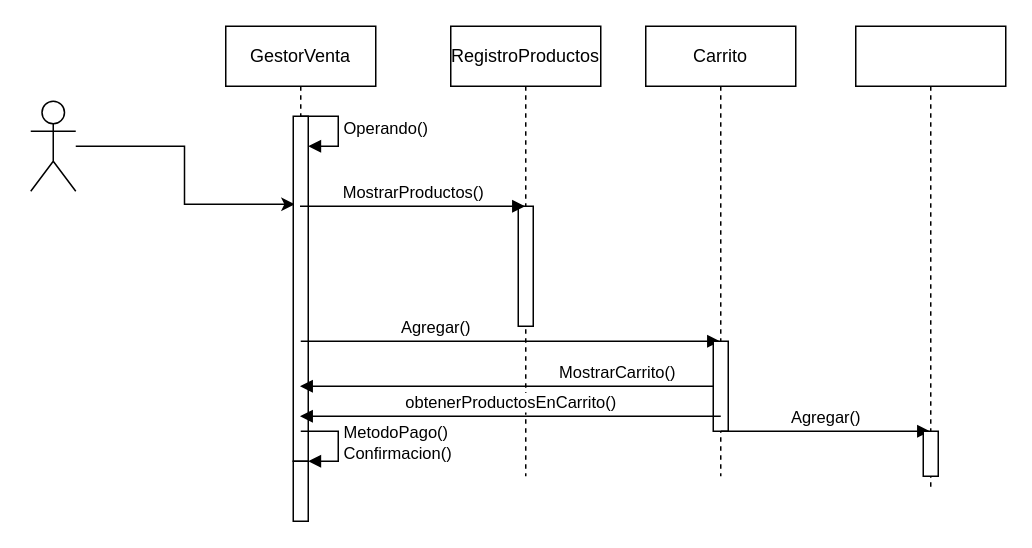
The diagram is 1032 pixels wide and 548 high, and some of its shapes have lost their labels. Here are the shapes that lost their labels. From the top down, the box of each, then its label:
(29, 100, 76, 191): Cliente
(854, 25, 1006, 491): Venta
